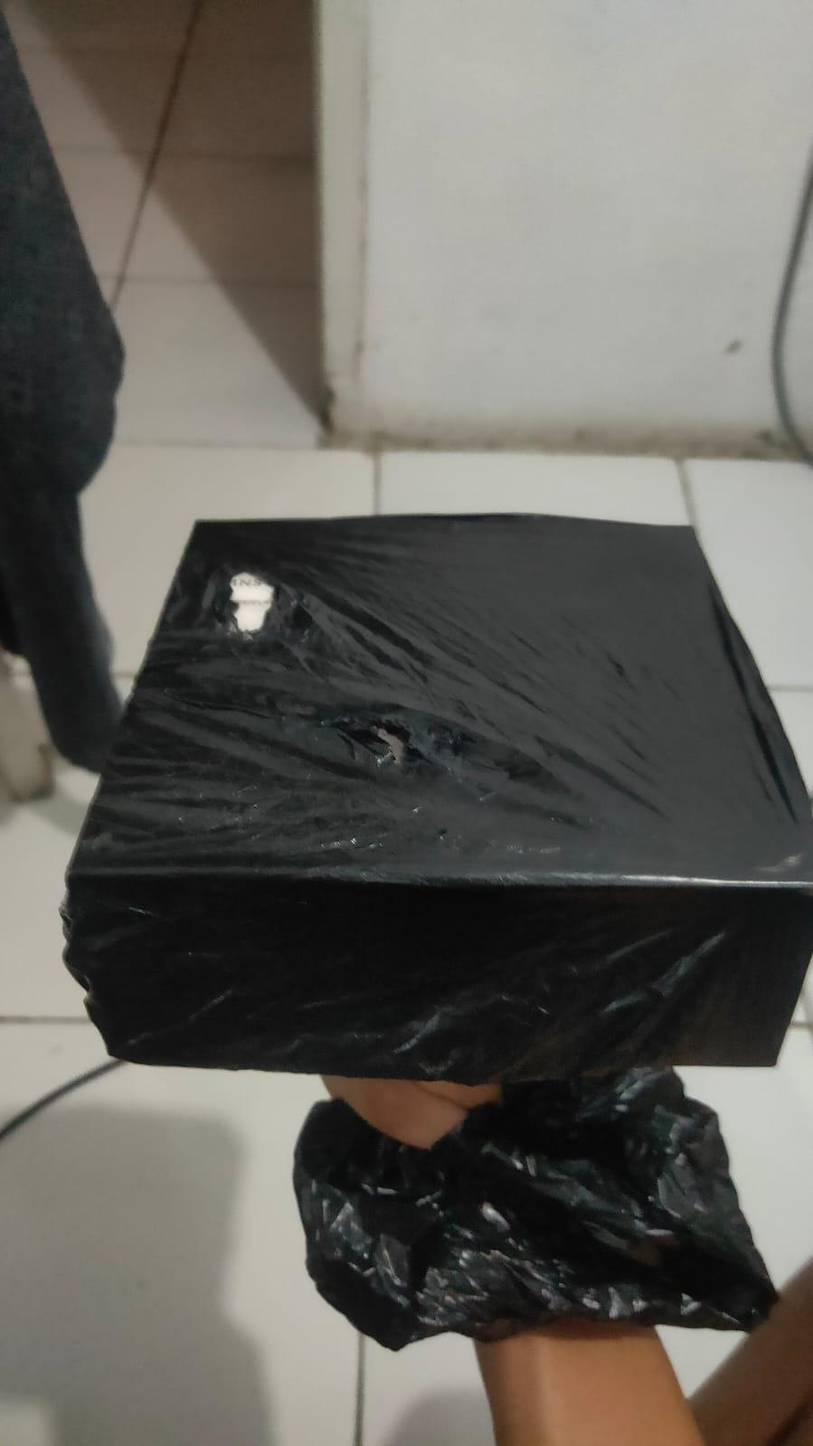damaged package: (336, 709, 427, 778), (219, 557, 278, 642)
undamaged: (40, 509, 811, 1085)
